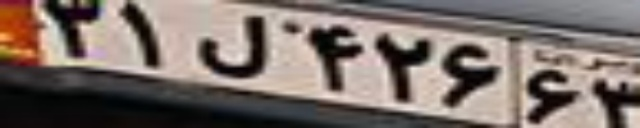1: (115, 1, 161, 66)
2: (373, 31, 426, 102)
3: (41, 0, 108, 58), (591, 79, 638, 127)
4: (305, 24, 363, 92)
6: (438, 43, 503, 111), (522, 68, 580, 123)
lam: (192, 14, 273, 80)
